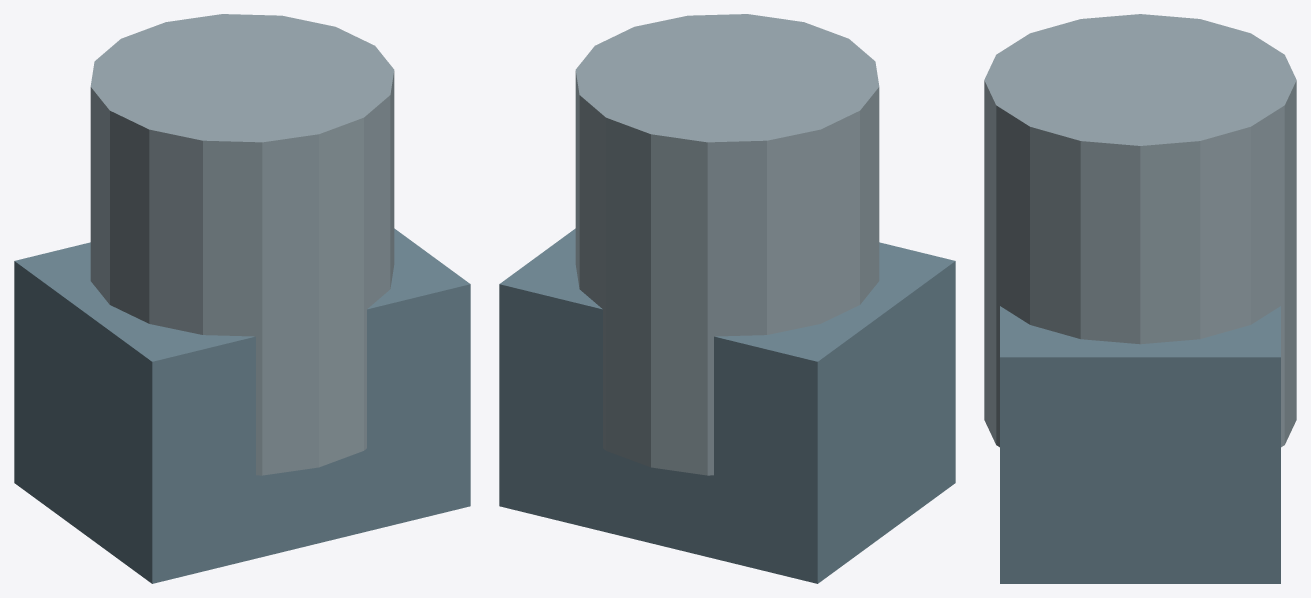
Rendered from water_storage_tank.glb.
3 views of the same model, side by side, from view 1: azimuth 30°, elevation 25°; view 2: azimuth 150°, elevation 25°; view 3: azimuth 270°, elevation 25° (orthographic).
Parts seen in each view (by area): view 1: Cylinder, water_storage_tank; view 2: Cylinder, water_storage_tank; view 3: Cylinder, water_storage_tank.
Part boxes in pixels (x1,y1,x2,y2): Cylinder: (90,14,394,475); water_storage_tank: (14,228,470,583); Cylinder: (575,14,879,475); water_storage_tank: (499,228,955,583); Cylinder: (984,14,1296,447); water_storage_tank: (1000,306,1280,583).
Bounding box in the file's own units: 1.2 × 1.5 × 1.
